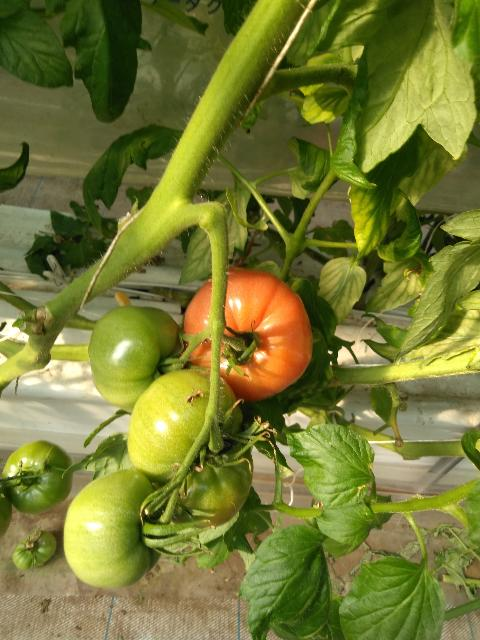b_green: (127, 367, 253, 530), (63, 469, 168, 591), (87, 305, 190, 414), (1, 439, 74, 515), (12, 529, 57, 570)
b_half_ripened: (183, 267, 313, 402)
